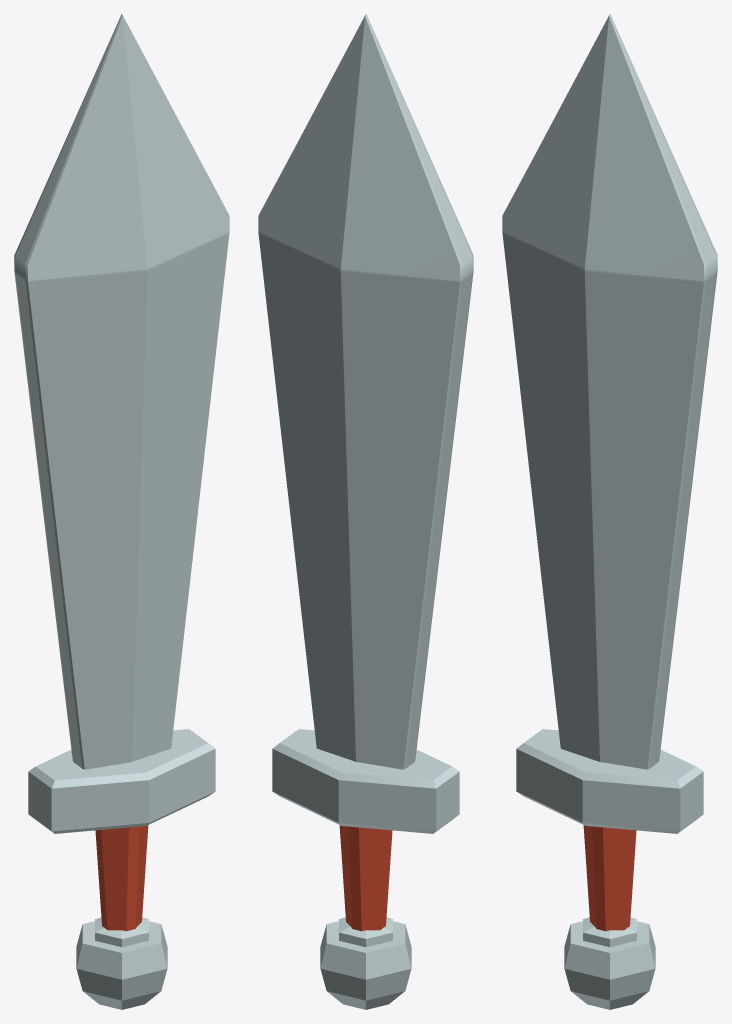
File: upgradedSword.fbx
3 views of the same model, side by side, from view 1: azimuth 30°, elevation 25°; view 2: azimuth 150°, elevation 25°; view 3: azimuth 330°, elevation 25° (orthographic).
Parts seen in each view (by area): view 1: blade, base, end, stick; view 2: blade, base, end, stick; view 3: blade, base, end, stick.
Part boxes in pixels (box(x1,y1,x2,y2)): blade: box(14, 14, 229, 769); base: box(28, 729, 215, 833); end: box(76, 917, 167, 1009); stick: box(95, 825, 148, 931); blade: box(258, 14, 473, 769); base: box(272, 729, 459, 833); end: box(320, 917, 411, 1009); stick: box(339, 825, 392, 931); blade: box(502, 14, 717, 769); base: box(516, 729, 703, 833); end: box(564, 917, 655, 1009); stick: box(583, 825, 636, 931).
Bounding box in the file's own units: 11.92 × 55.61 × 5.57.
